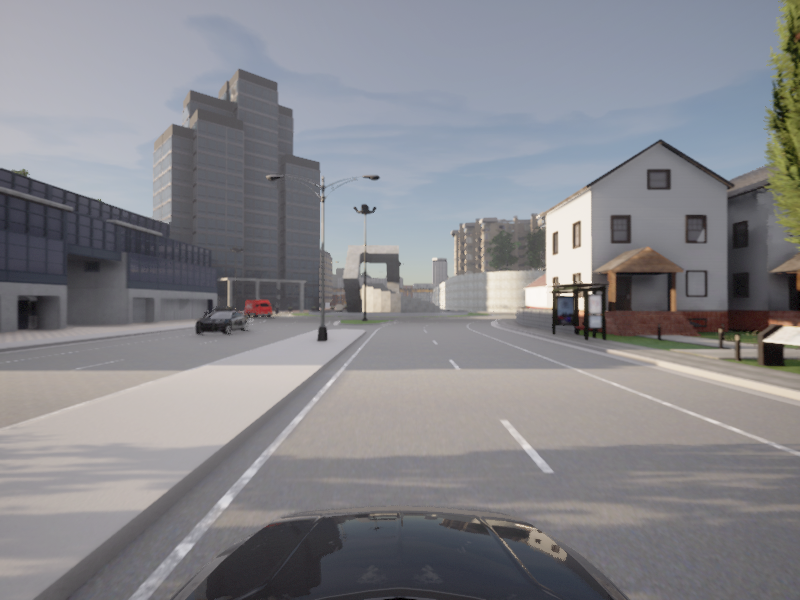vehicle: (188, 308, 251, 336)
